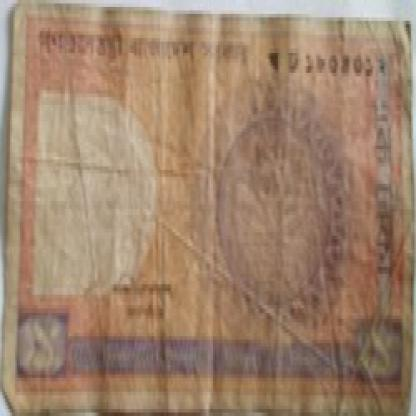One Taka: (15, 312, 63, 367), (363, 326, 401, 381)
